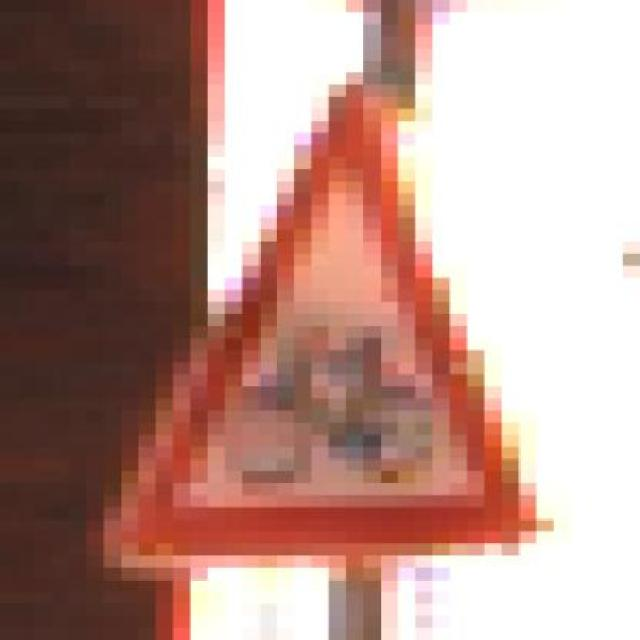CYCLE ROUTE AHEAD WARNING: (86, 60, 571, 580)
